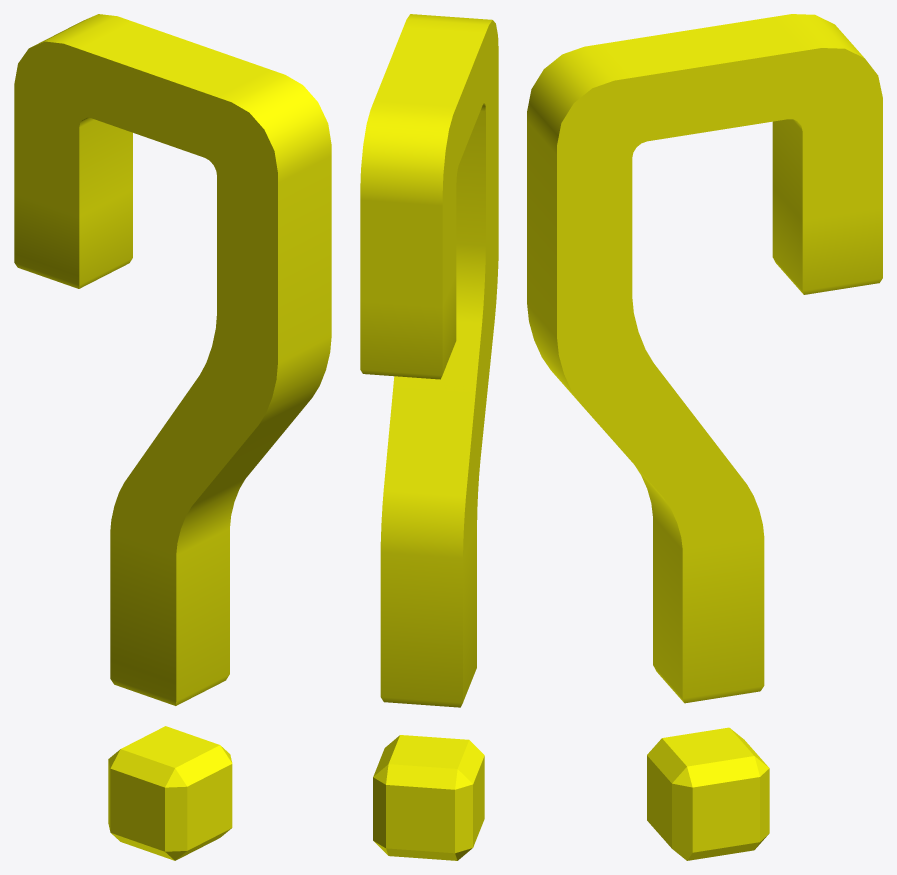
Rendered from Question_mark.fbx.
3 views of the same model, side by side, from view 1: azimuth 30°, elevation 25°; view 2: azimuth 150°, elevation 25°; view 3: azimuth 270°, elevation 25° (orthographic). The views are drawn at different scales.
Visible parts, largest first — view 1: Question mark; view 2: Question mark; view 3: Question mark.
Part boxes in pixels (x1,y1,x2,y2): Question mark: (14, 14, 331, 860); Question mark: (360, 14, 498, 860); Question mark: (527, 14, 882, 860).
Bounding box in the file's own units: 0.1441 × 0.6267 × 0.2542.
